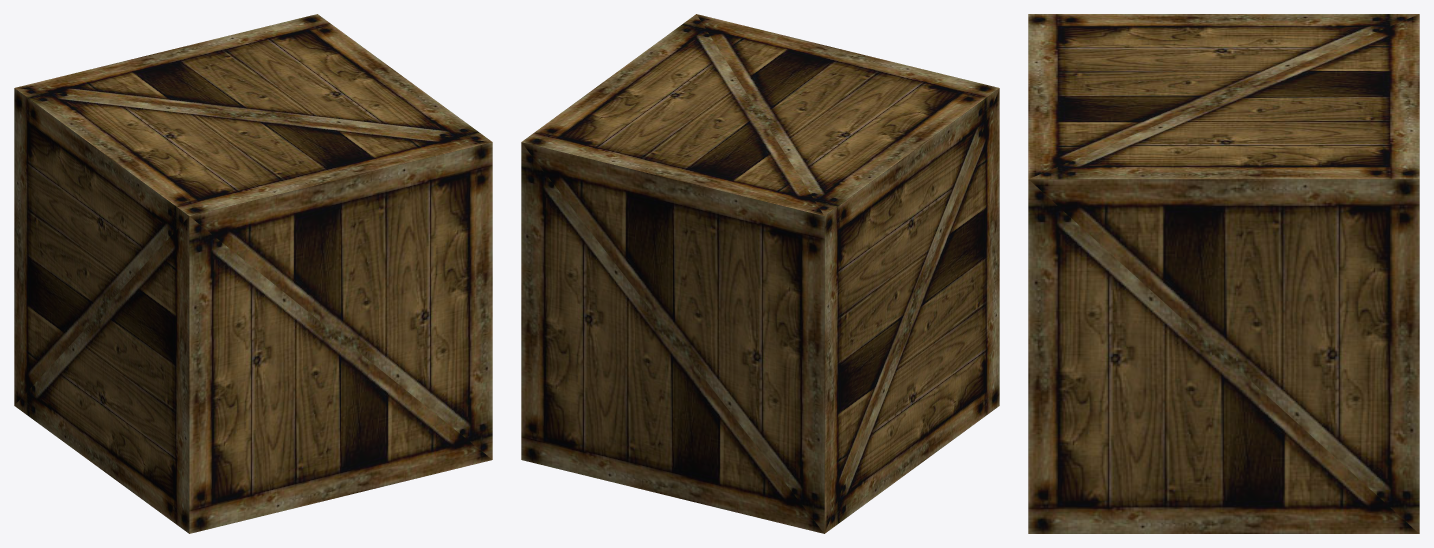
File: box_fragile.obj
The picture shows the model from 3 angles, left to right: view 1: azimuth 30°, elevation 25°; view 2: azimuth 150°, elevation 25°; view 3: azimuth 270°, elevation 25°; orthographic projection. The views are drawn at different scales.
Visible parts, largest first — view 1: Mesh_Mesh_skin; view 2: Mesh_Mesh_skin; view 3: Mesh_Mesh_skin.
Boxes of the visible parts, box(x1,y1,x2,y2) form: Mesh_Mesh_skin: box(14, 14, 492, 533); Mesh_Mesh_skin: box(521, 14, 999, 533); Mesh_Mesh_skin: box(1028, 14, 1419, 533).
Bounding box in the file's own units: 47.98 × 48.03 × 47.98.
3 materials, 3 textured.
